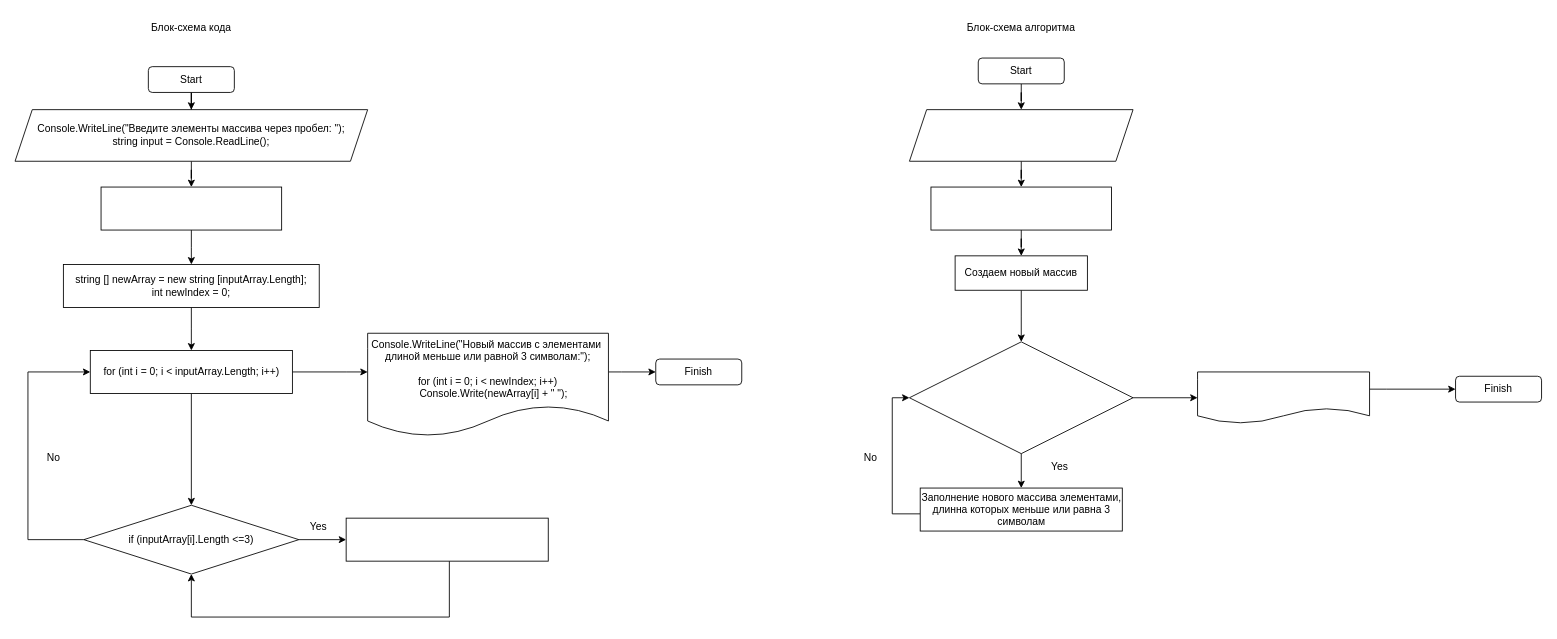
Some shapes in this 1557 by 639 pixel diagram are drawn without their labels. Each missing label, with the box of its shape:
newArray[newIndex] = inputArray[i]; newIndex++;: (345, 517, 548, 561)
string [ ] inputArray = input.Split(' ');: (100, 186, 282, 230)
Выводим в консоль новый массив: (1197, 371, 1370, 424)
Проверка элементов из введенного массива. Элемент меньше либо равен 3 символам?: (909, 341, 1133, 454)
Просим пользователя ввести элементы массива в консоль через пробел: (909, 109, 1133, 161)
Разделяем элементы массива с помощью метода Split: (930, 186, 1112, 230)
